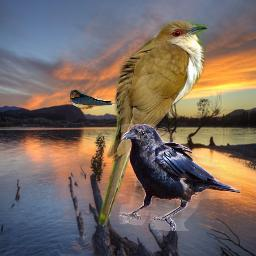Crow: (119, 124, 241, 231)
Cuckoo: (97, 20, 209, 227)
Swallow: (69, 89, 120, 109)
